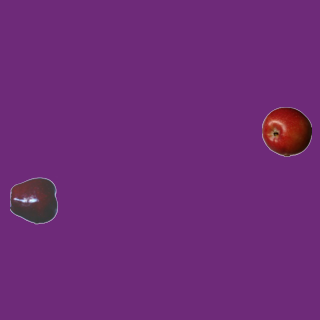Apple Braeburn: (261, 106, 311, 156)
Apple Red Delicious: (9, 175, 59, 225)
